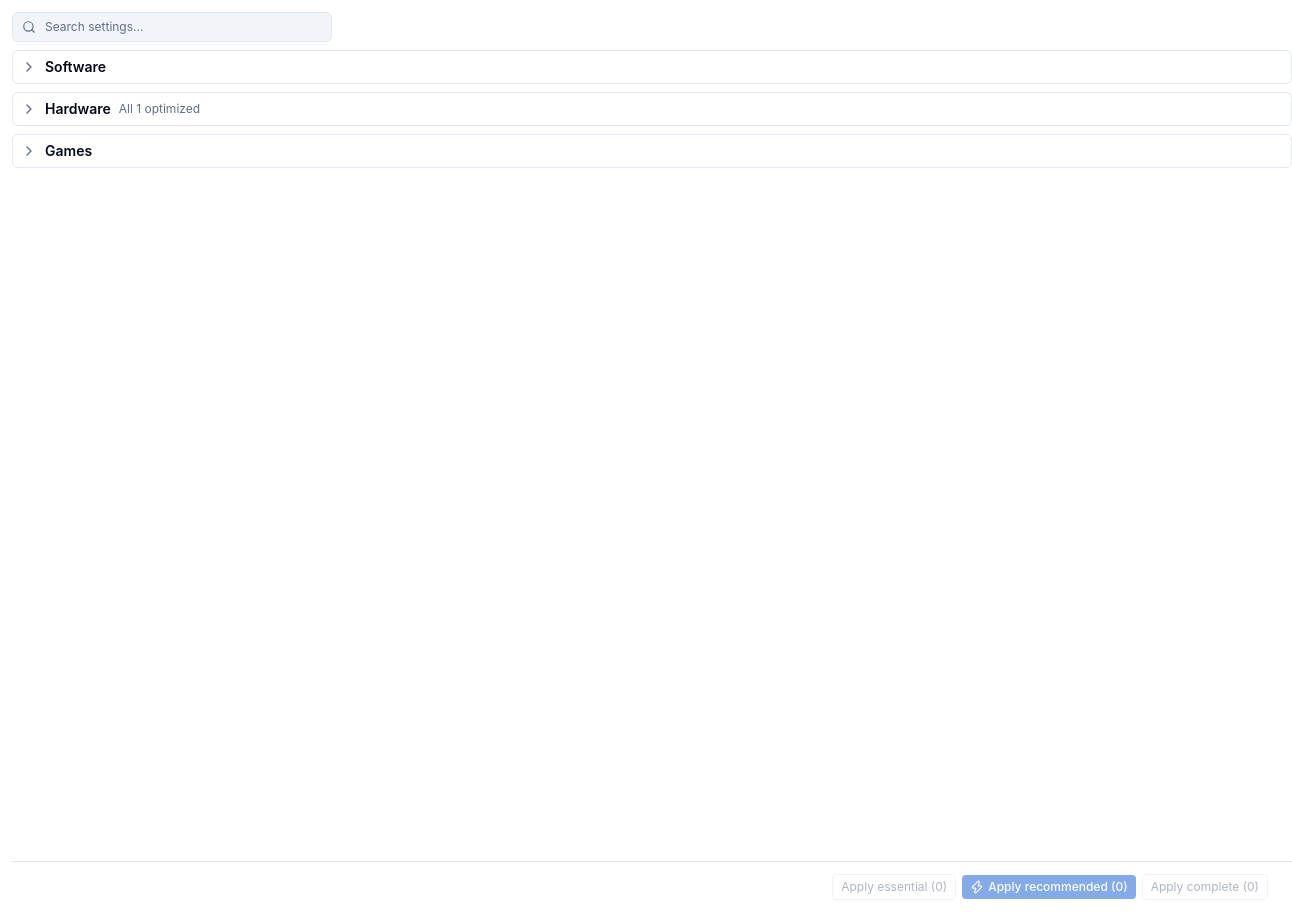
Test: a device is named once, in its header › shows a monitor without an EDID model by its device path once
What coordinates should you click on to do the following:
click the button "Hardware All 1 optimized"
I would click on:
 (78, 108)
Its box is top-left (21, 99), bottom-right (1275, 119).
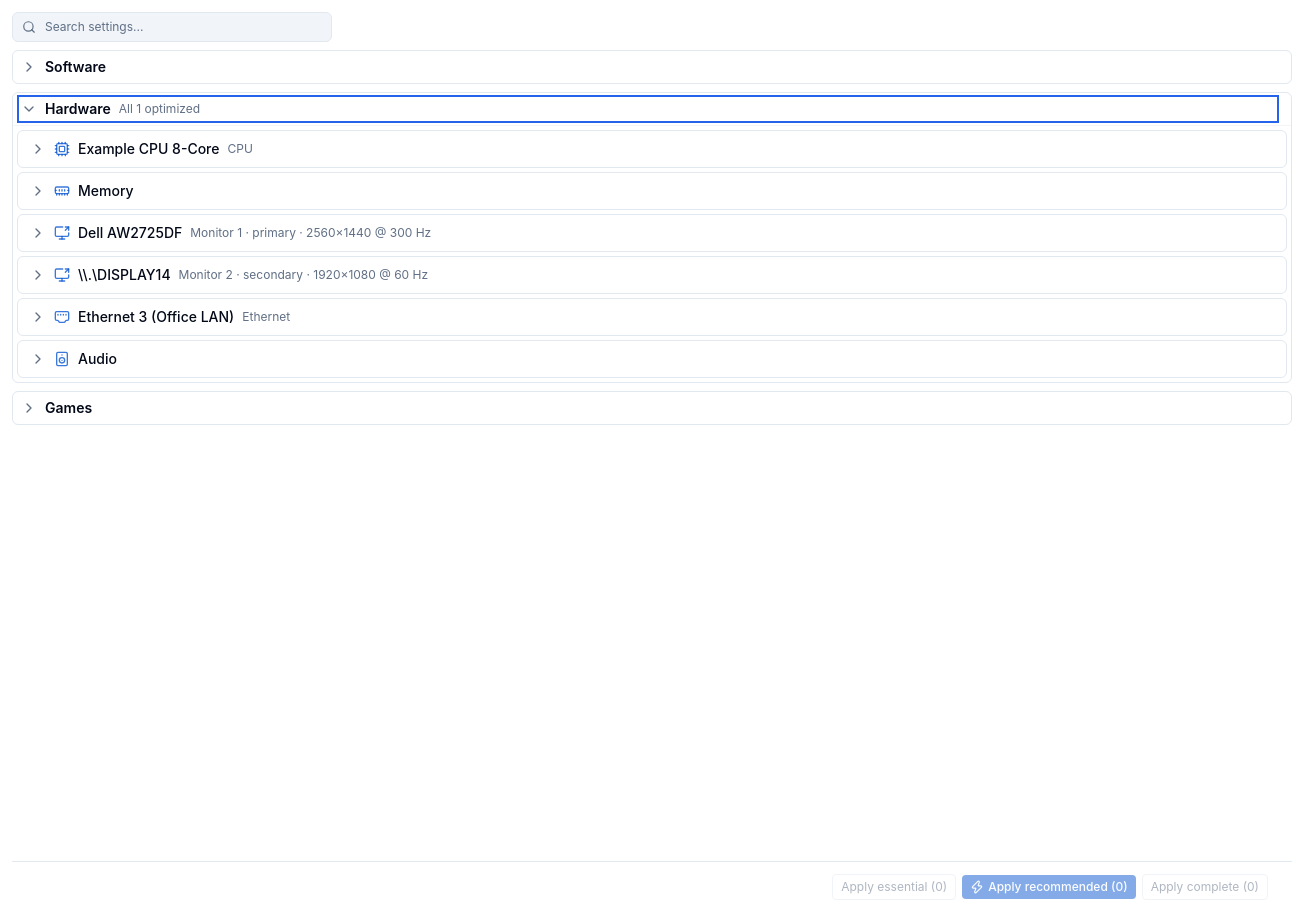
What coordinates should you click on to do the following:
click the button "\\\\.\\DISPLAY14 Monitor 2 · secondary · 1920×1080 @ 60 Hz"
I would click on:
 (124, 274)
Its box is top-left (18, 257), bottom-right (1286, 293).
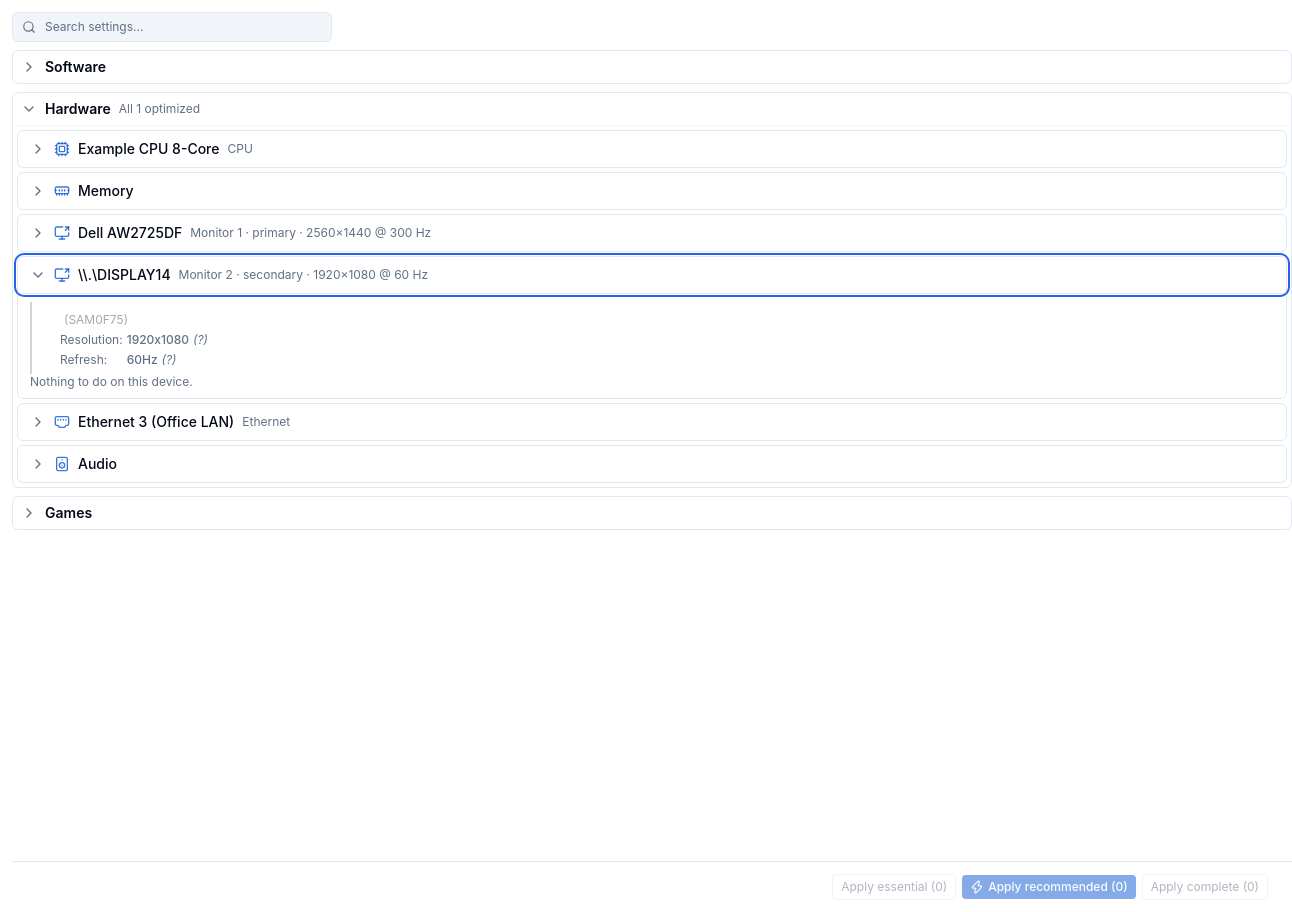
Expected: the text "\\\\.\\DISPLAY14" is shown once, top-left (78, 265), bottom-right (171, 285)
Expected: the text "(SAM0F75)" is shown, top-left (64, 312), bottom-right (128, 327)
